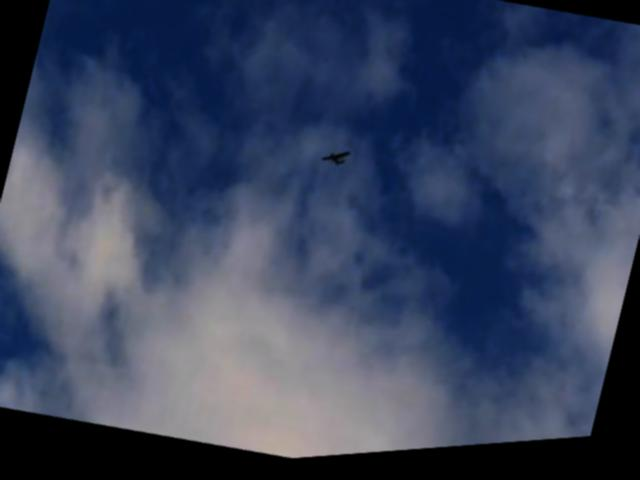uav: (316, 147, 352, 177)
